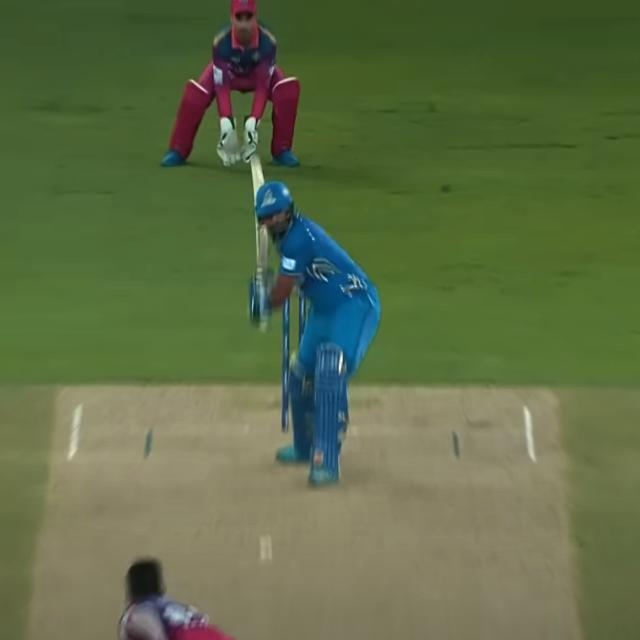bat: (251, 155, 270, 268)
toe: (252, 154, 262, 160)
